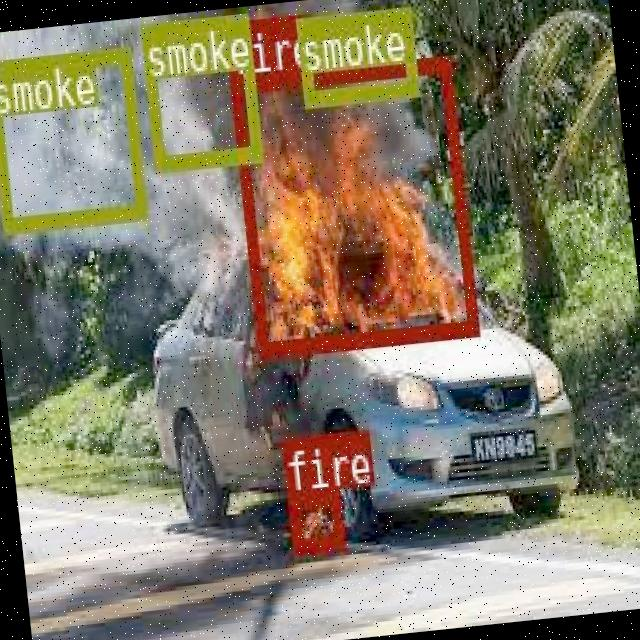fire: (228, 54, 477, 355), (286, 486, 342, 552)
smoke: (0, 43, 145, 230), (138, 11, 260, 168), (294, 5, 416, 104)
